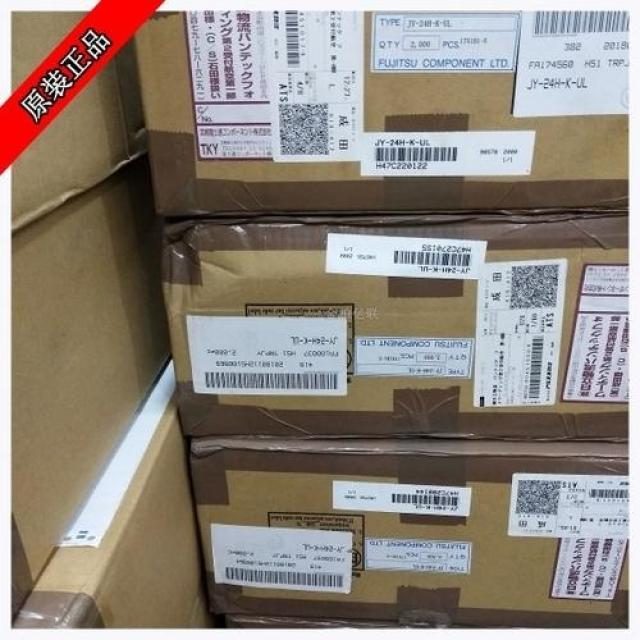box: (158, 216, 628, 441), (132, 11, 627, 215), (186, 439, 629, 626), (9, 161, 170, 622), (9, 356, 205, 629), (10, 42, 144, 229), (12, 11, 90, 90)
